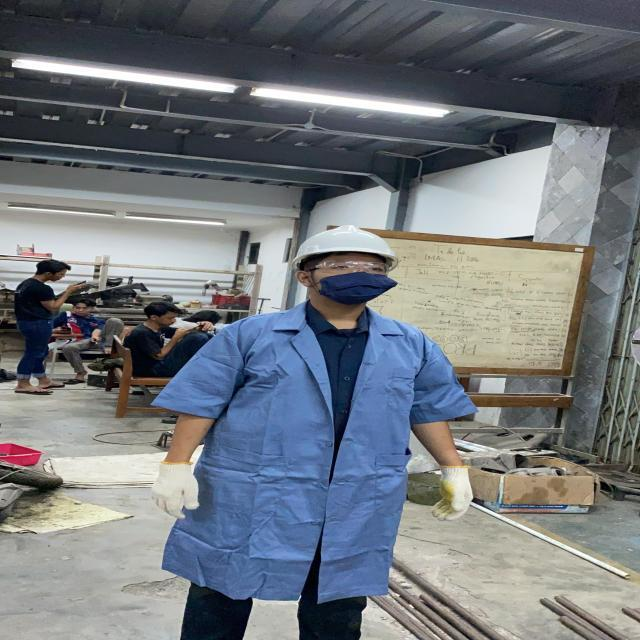glasses: (302, 258, 392, 280)
